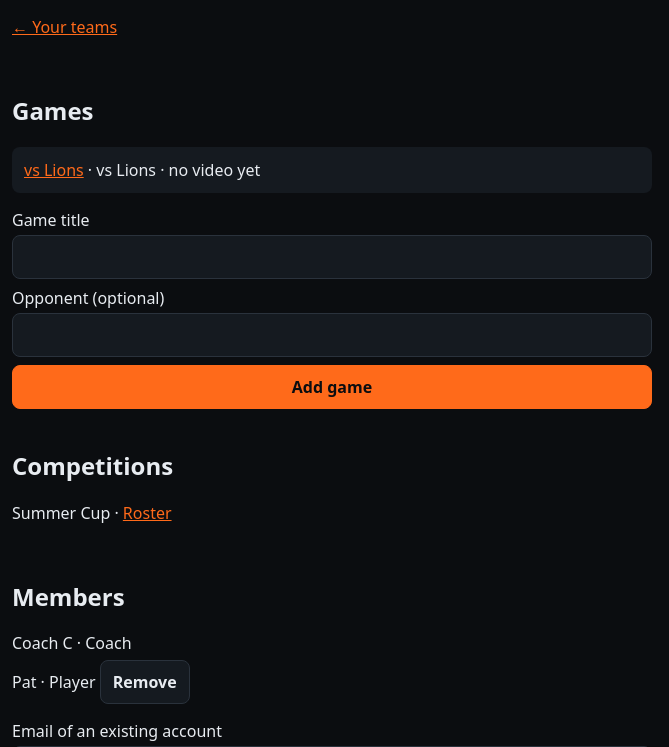
Test: TeamDetail › a coach can add and remove members, never remove a coach, and sees the server's reason when adding fails
Click the button with aria-label "Remove Pat".
click(145, 682)  # box [100,660,190,704]
(page scrolled)
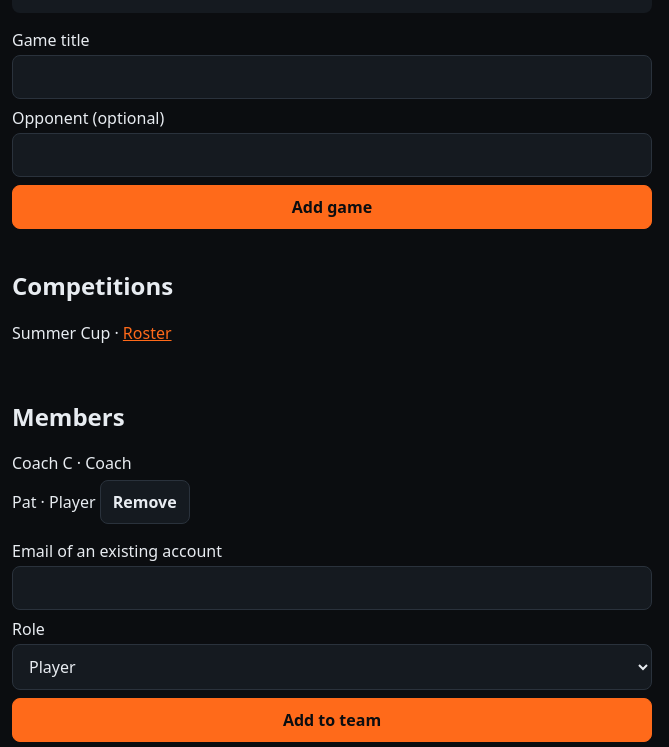
Type "kid@example.com" into the field labelled "Email of an existing account".
click(332, 588); type("kid@example.com")  # box [12,566,652,610]
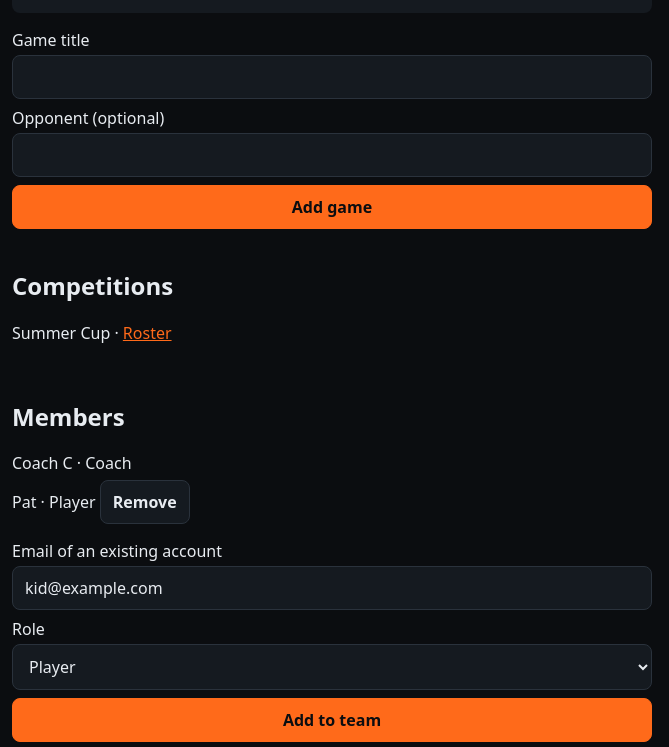
Click the button "Add to team".
click(332, 720)  # box [12,698,652,742]
(page scrolled)
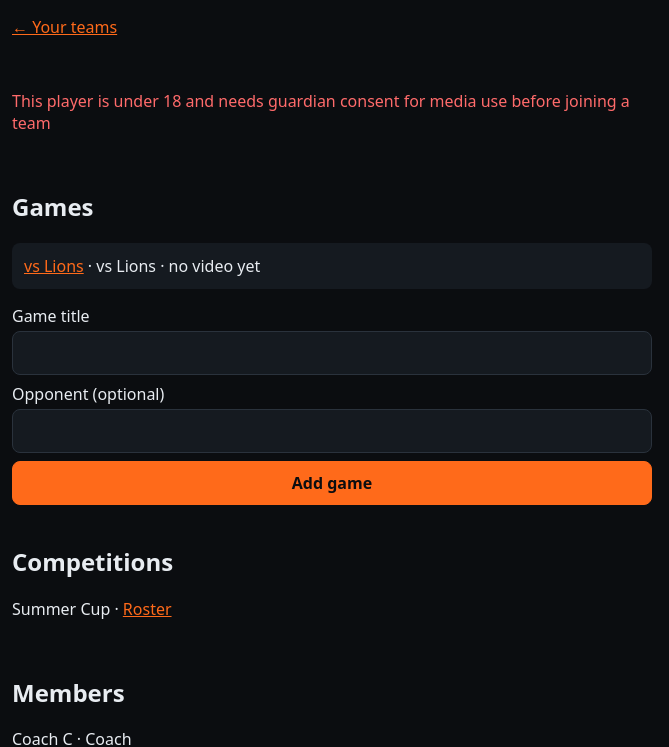
Expected: the message shows "needs guardian consent", [12,90,630,134]
